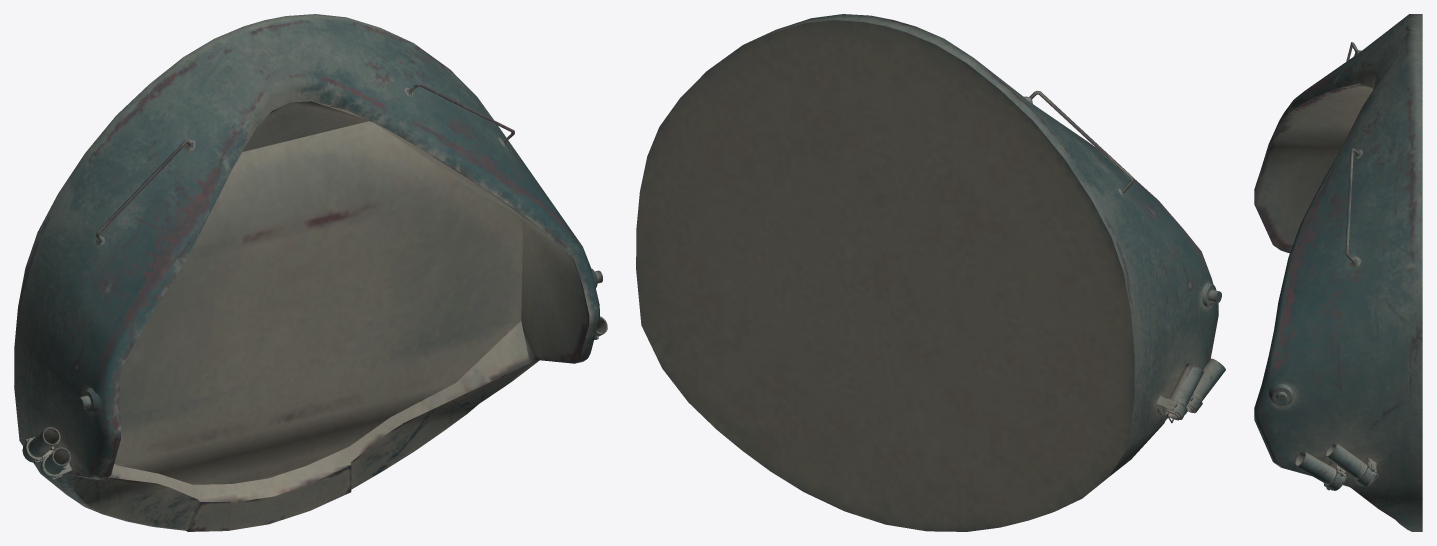
Rendered from Turret_01.glb.
3 renders of one model, left to right at view 1: azimuth 30°, elevation 25°; view 2: azimuth 150°, elevation 25°; view 3: azimuth 270°, elevation 25°, orthographic. The views are drawn at different scales.
Visible parts, largest first — view 1: set_0_group_0; view 2: set_0_group_0; view 3: set_0_group_0.
Boxes of the visible parts, x1,y1,x2,y2 form: set_0_group_0: (14, 14, 607, 531); set_0_group_0: (636, 14, 1225, 531); set_0_group_0: (1254, 14, 1422, 531).
Bounding box in the file's own units: 3.01 × 2.6 × 0.8495.
Materials: 1 (1 with a texture image).
